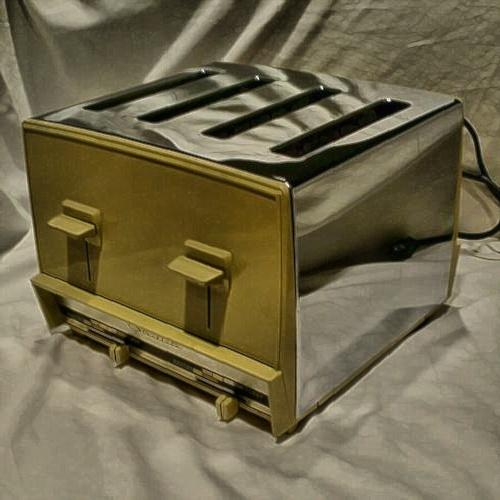toaster: (46, 67, 466, 411)
